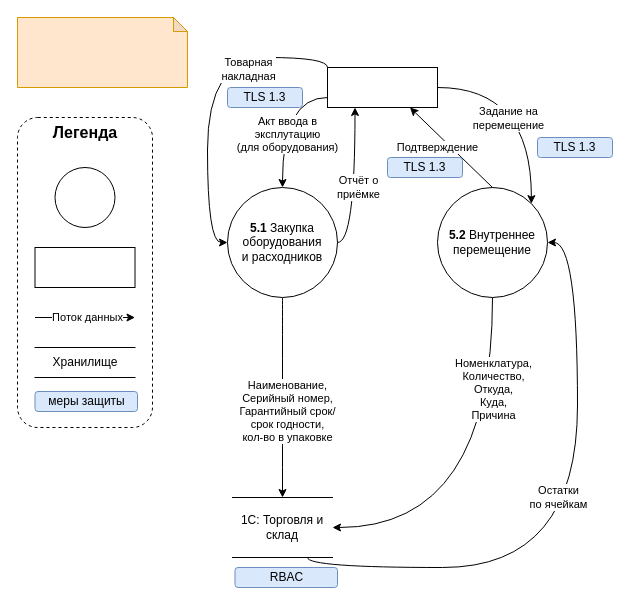
Image size: 630x605. Some labels were removed from this diagram. Here are the shapes that lost their labels. From the top down, the box of each, then its label:
(16, 16, 188, 88): Диаграмма потоков данных для процесса #5 - Упарвление складом.
(326, 66, 438, 108): Управляющий складом
(54, 166, 115, 228): Процесс
(34, 246, 135, 288): Сущность (система / персона)
